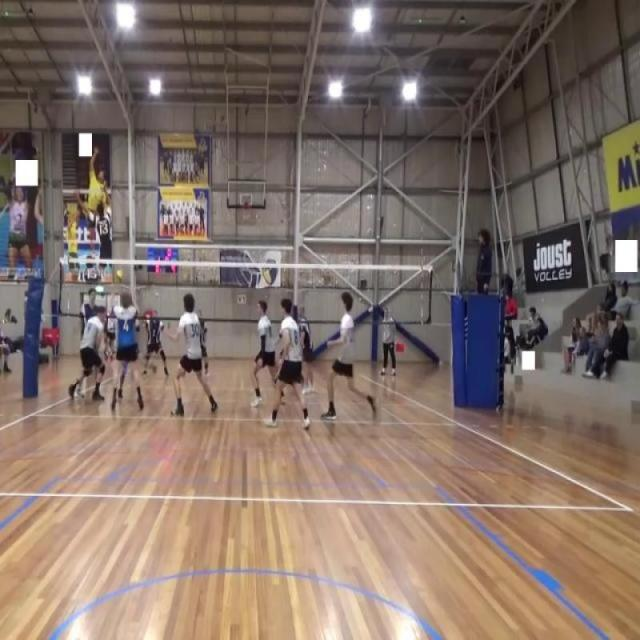volleyball: (115, 270, 124, 282)
